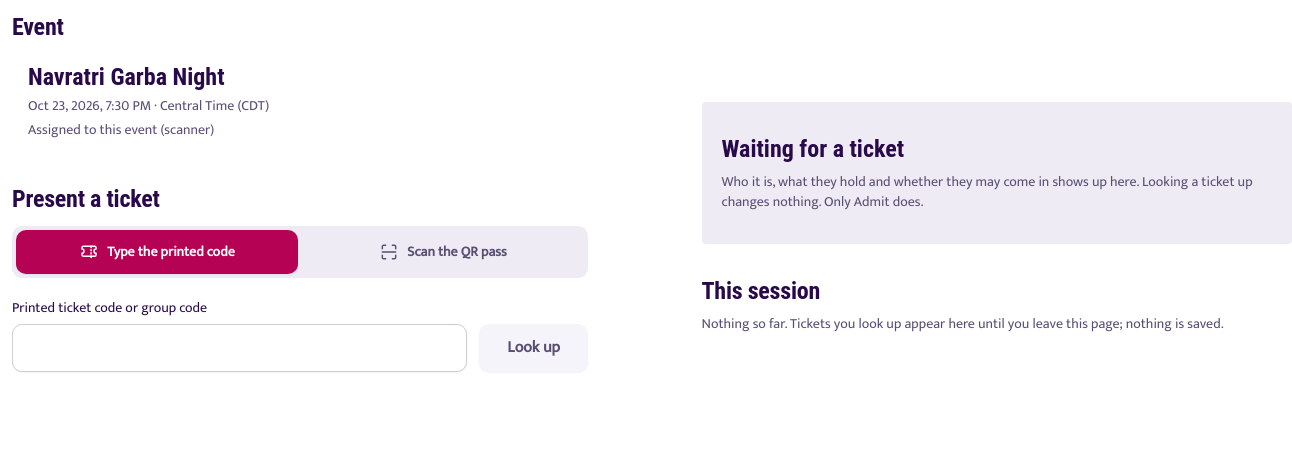
DoorWorkspace: looking up, then admitting › names the event’s zone in words, never as the database spells it
Expected: the text "Oct 23, 2026, 7:30 PM · Central Time (CDT)" is shown, x1=28 y1=94 x2=269 y2=117
Step 1. Type "det-abc123xyz" into the field labelled "Printed ticket code or group code" → (240, 348), box x1=12 y1=324 x2=467 y2=372
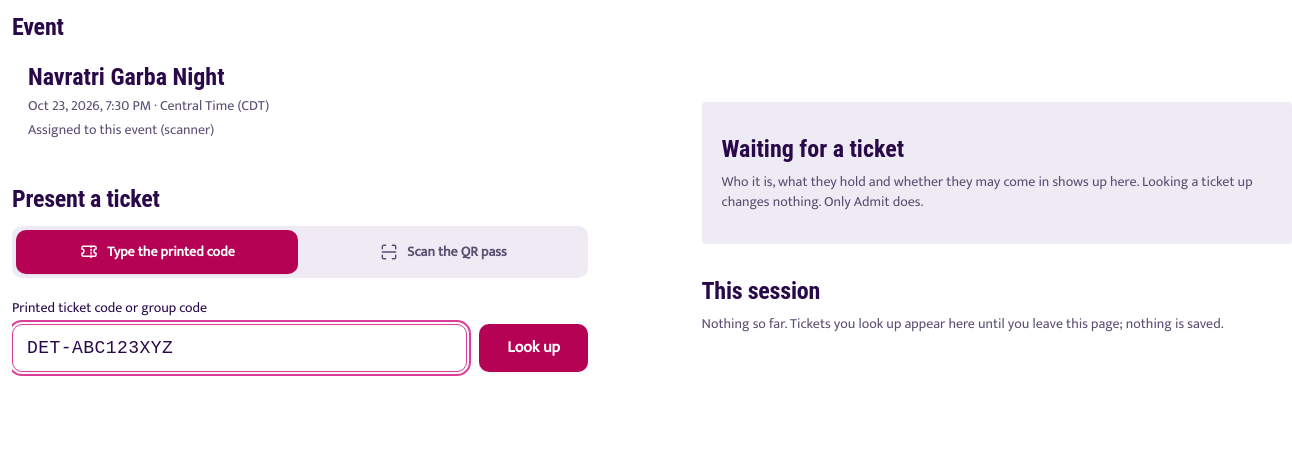
Step 2. Click the button "Look up" → click(534, 348), box x1=479 y1=324 x2=588 y2=372
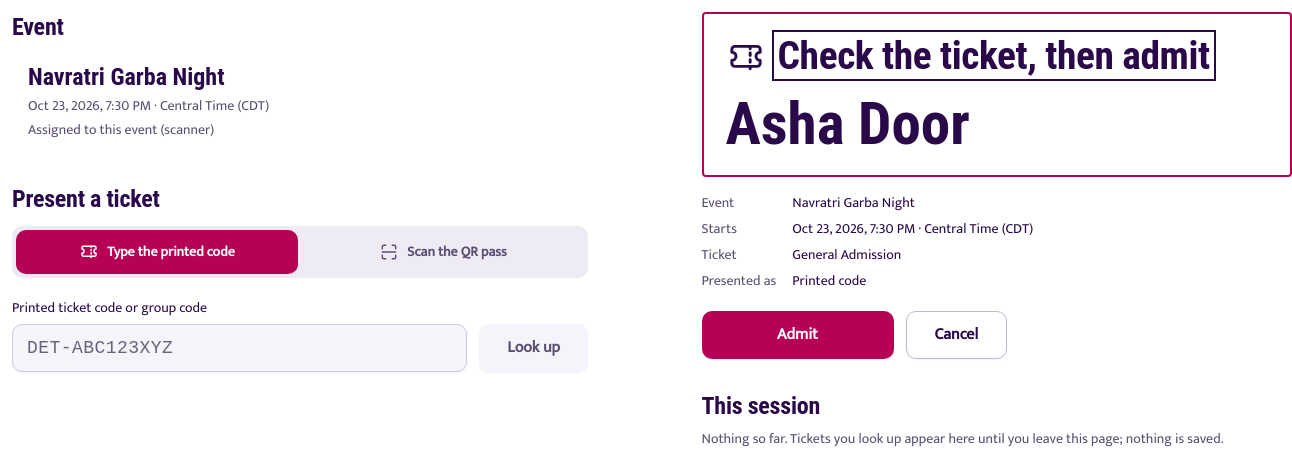
Expected: the heading "Check the ticket, then admit" is shown, x1=778 y1=36 x2=1210 y2=76
Expected: the text "Oct 23, 2026, 7:30 PM · Central Time (CDT)" next to "Starts" is shown, x1=792 y1=217 x2=1033 y2=240
